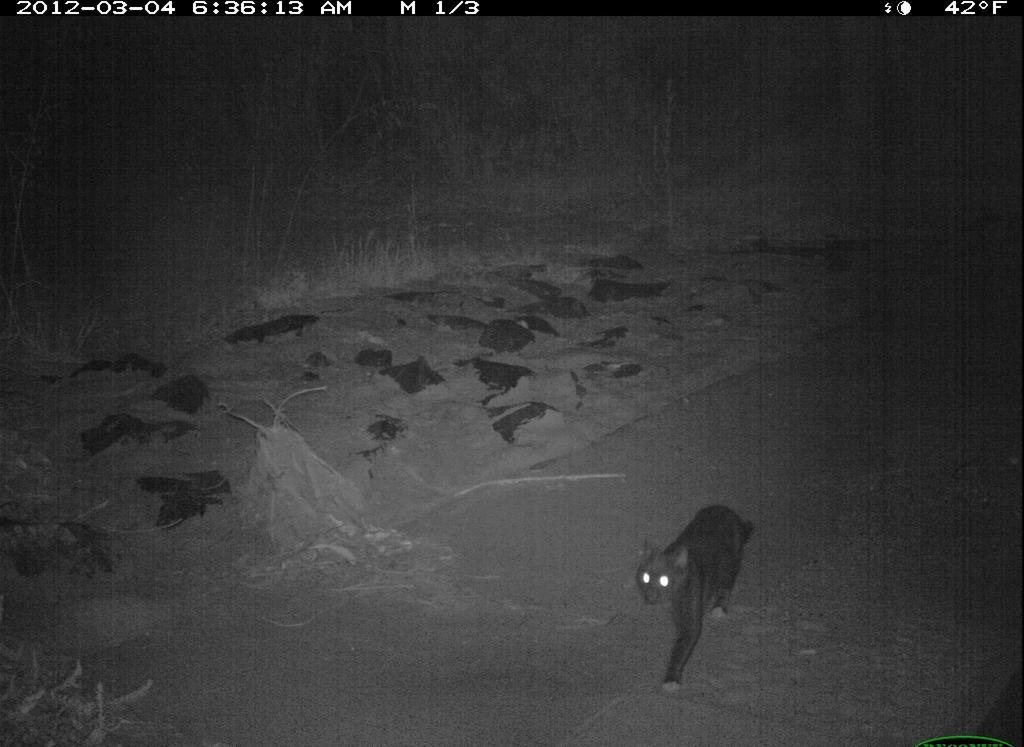cat: (628, 481, 767, 701)
